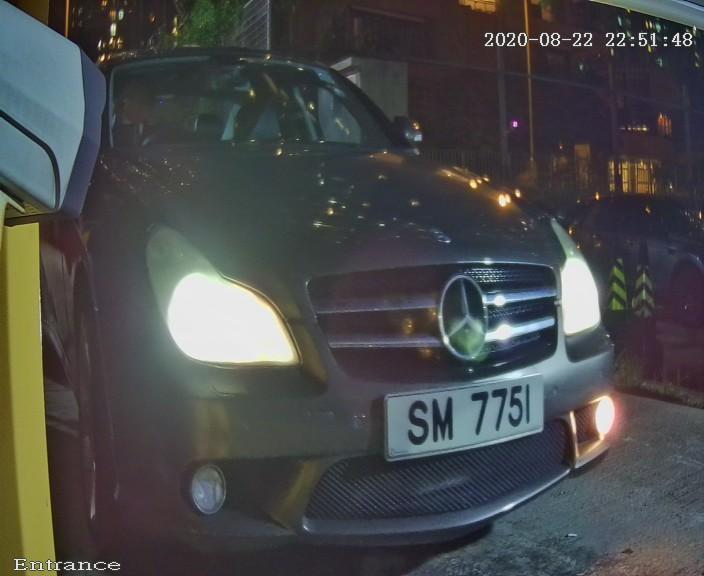Car: (29, 1, 657, 576)
License Plate: (361, 356, 571, 475)
